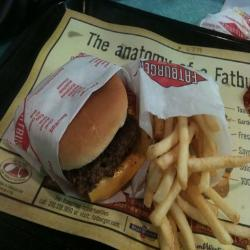burger: (32, 69, 143, 206)
fries: (153, 118, 217, 240)
